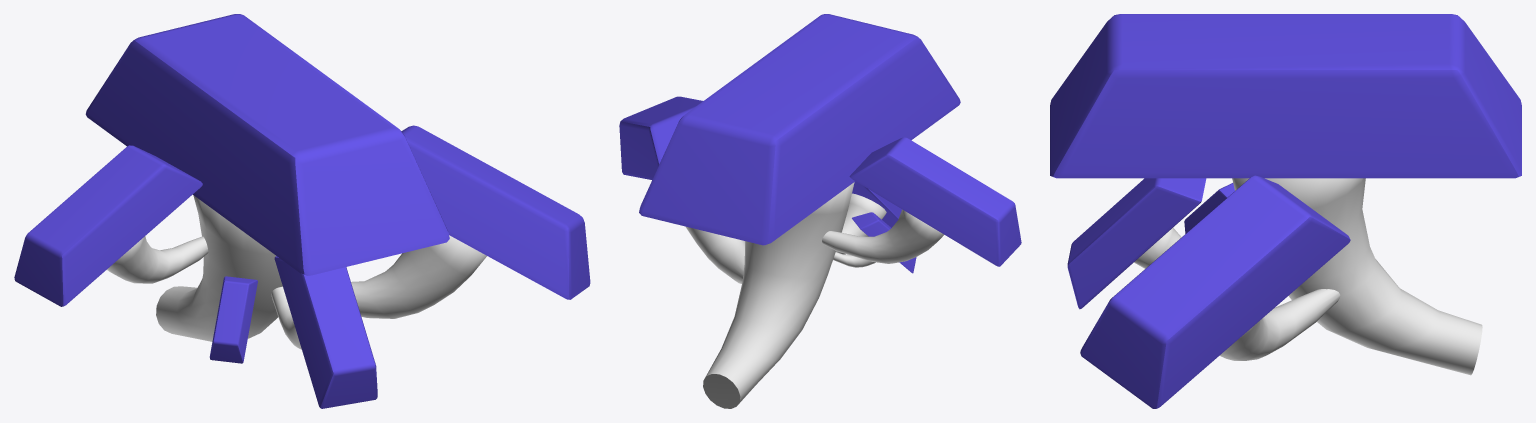
File: IngoShroom.fbx
The picture shows the model from 3 angles, left to right: view 1: azimuth 30°, elevation 25°; view 2: azimuth 150°, elevation 25°; view 3: azimuth 270°, elevation 25°; orthographic projection. The views are drawn at different scales.
Visible parts, largest first — view 1: IngoShroom; view 2: IngoShroom; view 3: IngoShroom.
Boxes of the visible parts, left/top/right/bottom form: IngoShroom: left=14, top=14, right=590, bottom=408; IngoShroom: left=619, top=14, right=1021, bottom=408; IngoShroom: left=1050, top=14, right=1521, bottom=408.
Bounding box in the file's own units: 162 × 97.24 × 124.
